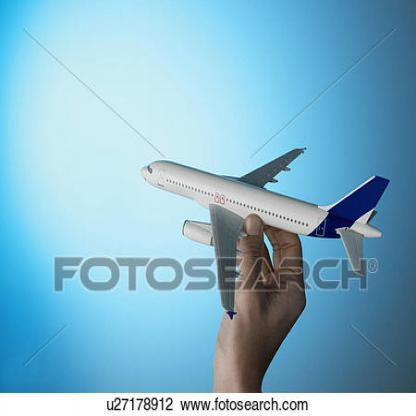CIV_Plane: (132, 141, 392, 322)
